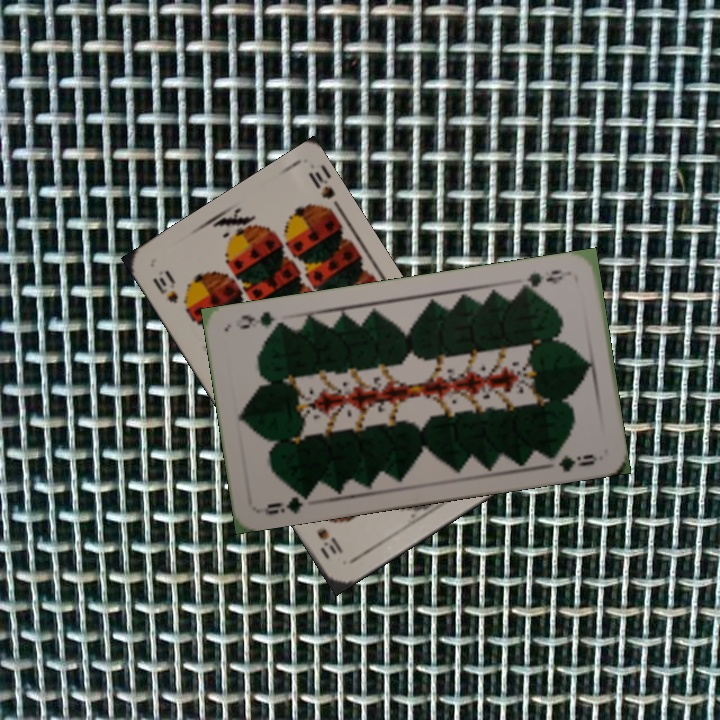G9: (257, 487, 314, 518), (516, 265, 574, 293)
S10: (148, 267, 181, 306)
